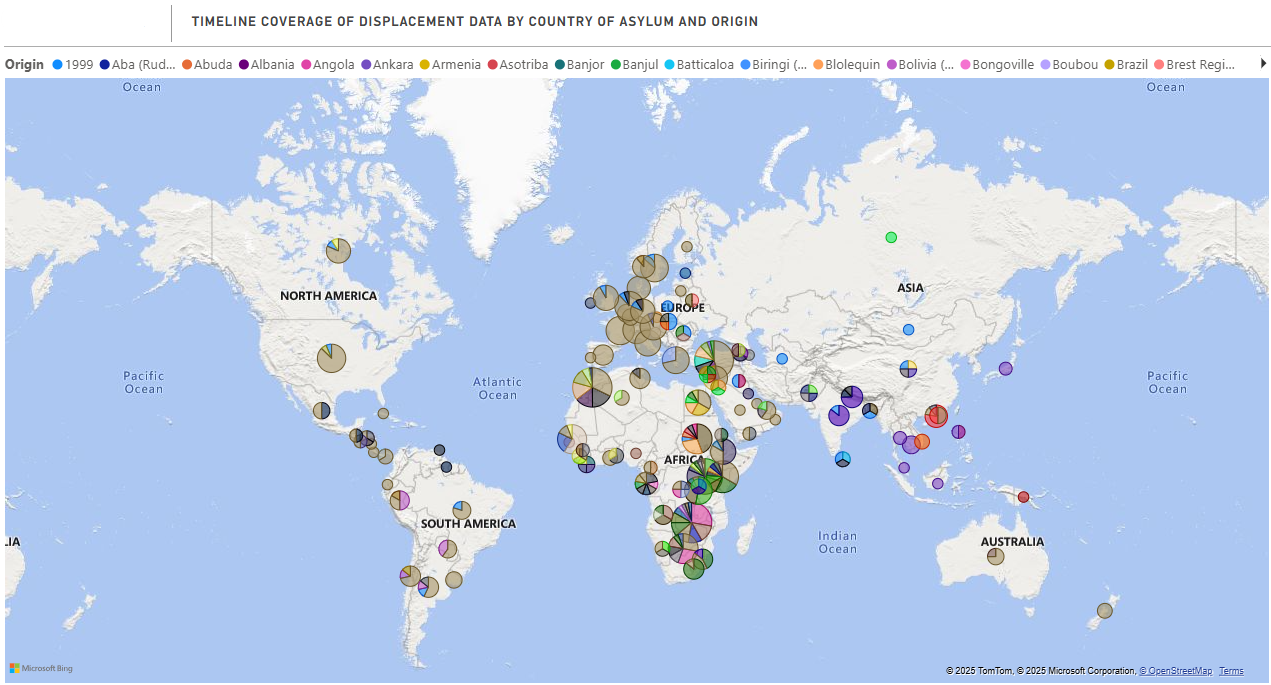

The dashboard page shown, as its layout file describes it:
{"tool":"powerbi","page":{"name":"Global Displacement Overview","canvas":[1280,720],"ordinal":0},"visuals":[{"type":"map","title":"Timeline Coverage of Displacement Data by Country of Asylum and Origin","fields":{"Category":["project persons_of_concern.Country / territory of asylum/residence"],"Size":["Sum(project persons_of_concern.Year)"],"Series":["project persons_of_concern.Origin"]},"box":[9.6,0,1270.7,720.4],"z":0}]}

Visuals, with their boxes on the page's 1280x720 design canvas (x1, y1, x2, y2). These are canvas units, not pixel positions in the 1271x685 screenshot, which may show the page scaled, cropped or inside an application window:
"Timeline Coverage of Displacement Data by Country of Asylum and Origin" map: bbox=[10, 0, 1280, 720]
